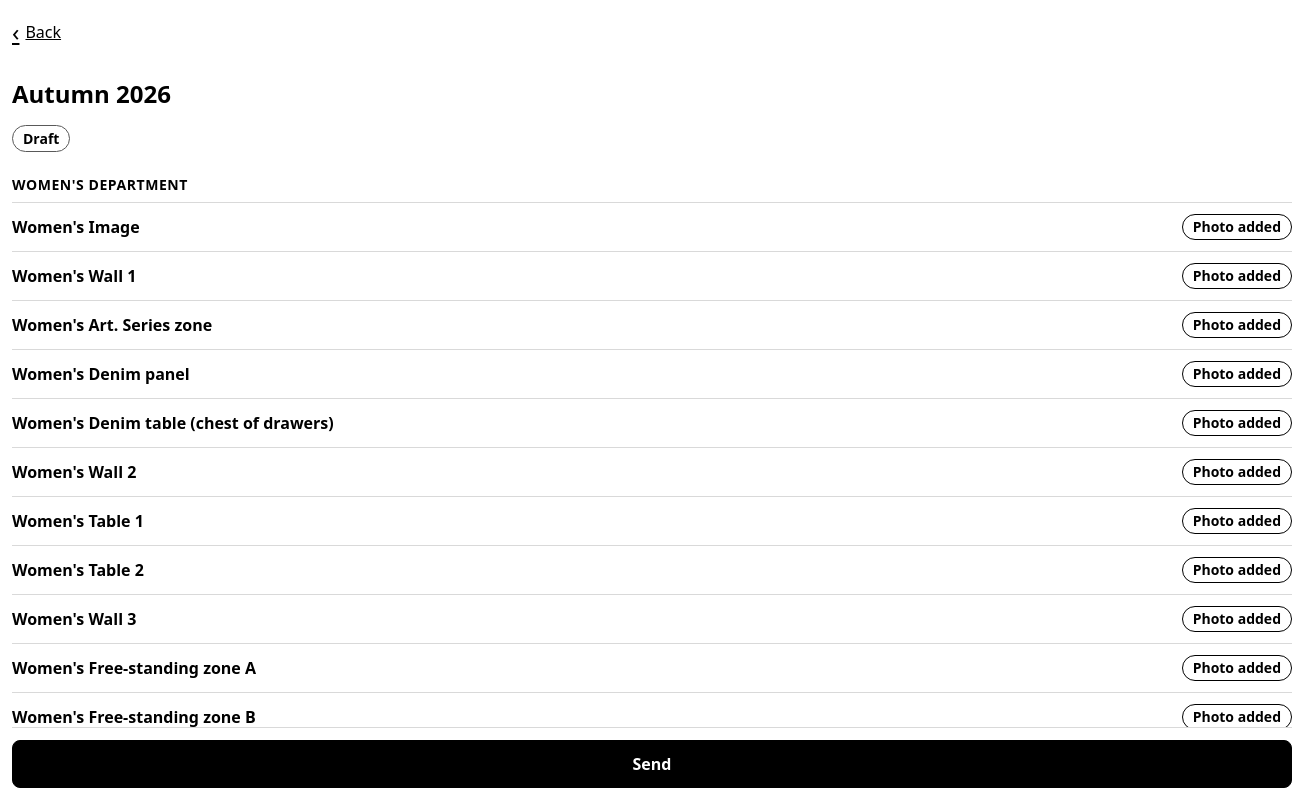
Test: DraftReportPage: send › sends only once however often the button is tapped, and is disabled while sending
Click the button "Send" at [652, 764], box 12,740 -> 1292,788
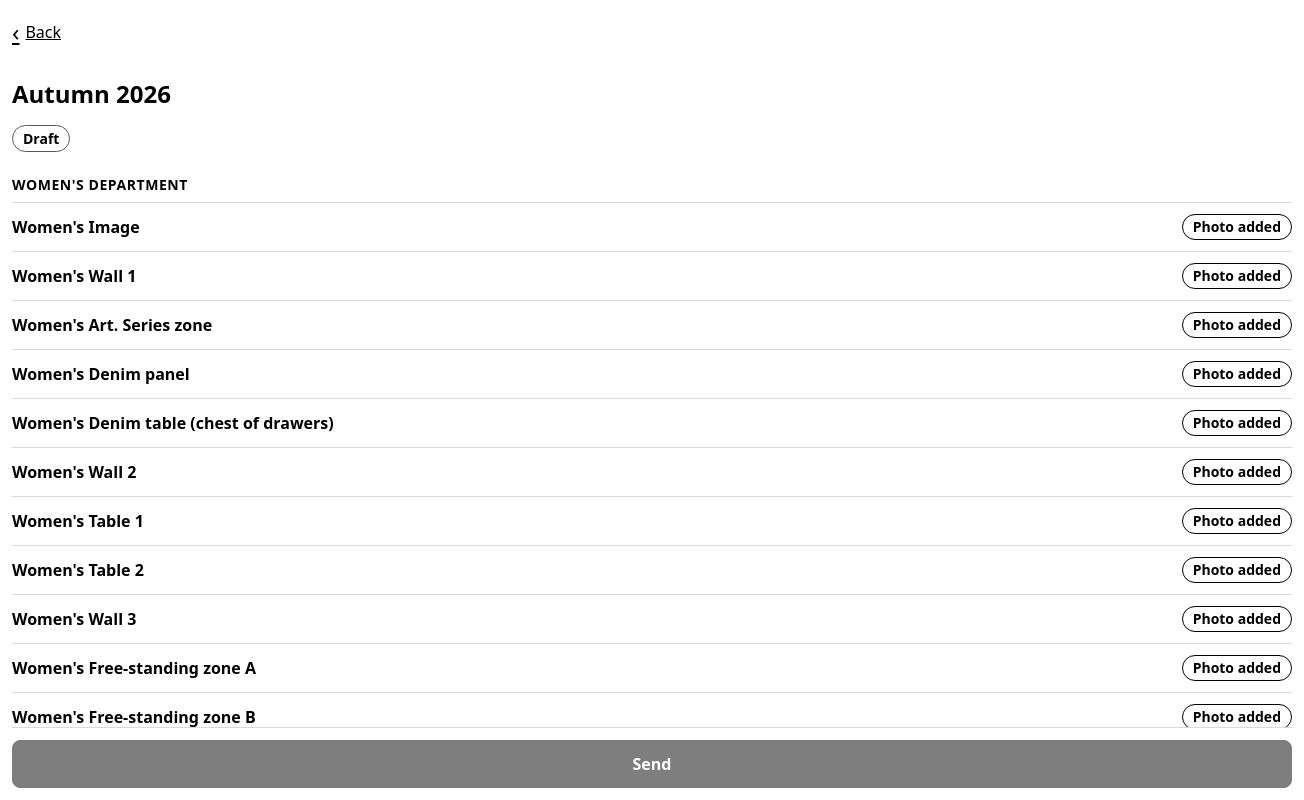
Check: the button "Send" is disabled
Click the button "Send" at [652, 764], box 12,740 -> 1292,788
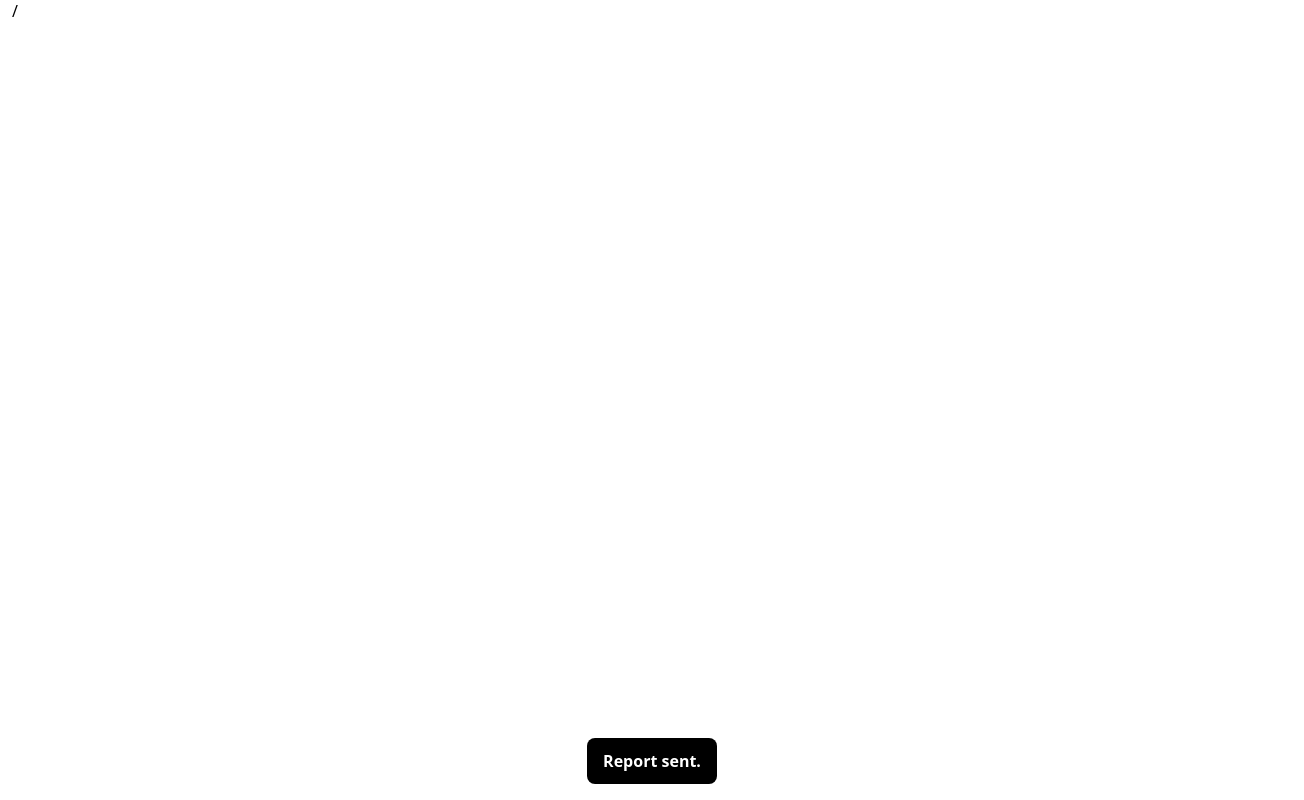
Check: the text "Report sent." is shown, box 603,750 -> 701,772
